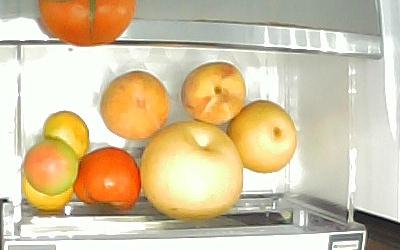peach: (98, 69, 170, 141), (179, 60, 246, 125)
pear: (138, 118, 244, 219), (225, 98, 297, 173)
tangerine: (41, 108, 89, 158), (21, 170, 73, 211)
tomato: (72, 145, 141, 210), (22, 138, 78, 196)
